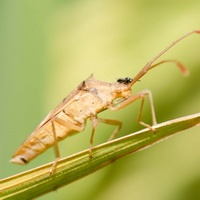insect: (0, 30, 199, 199), (96, 98, 146, 139), (57, 118, 92, 159), (92, 121, 117, 147)
